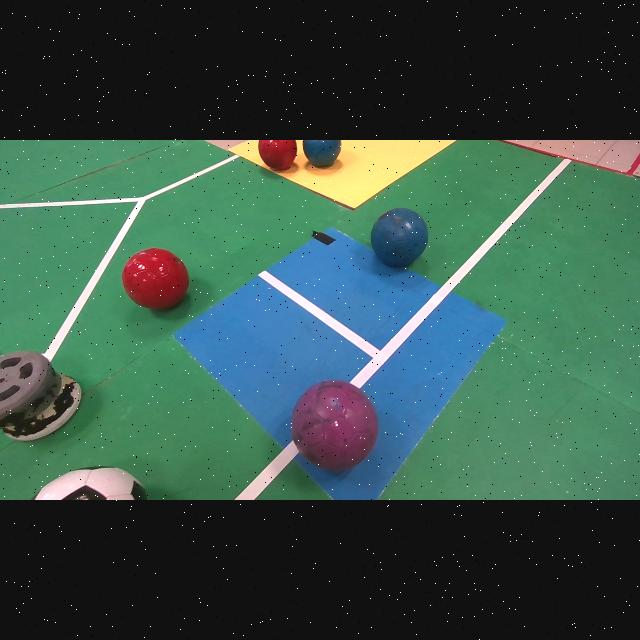B: (371, 208, 428, 267), (303, 140, 342, 167)
P: (291, 379, 378, 471)
R: (123, 248, 189, 309), (258, 140, 298, 171)
